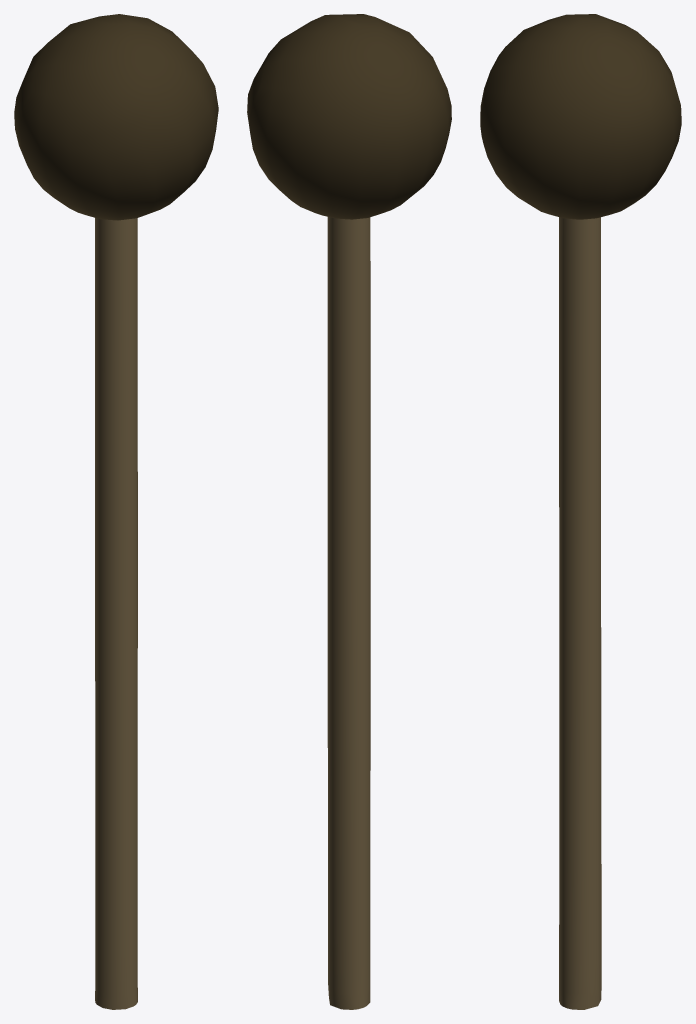
The model's file is Xylophone_Mallet.fbx.
3 renders of one model, left to right at view 1: azimuth 30°, elevation 25°; view 2: azimuth 150°, elevation 25°; view 3: azimuth 270°, elevation 25°, orthographic.
Parts seen in each view (by area): view 1: Mallet; view 2: Mallet; view 3: Mallet.
Boxes of the visible parts, <box> form: Mallet: <box>14,14,218,1009</box>; Mallet: <box>247,14,451,1009</box>; Mallet: <box>480,14,681,1009</box>.
Bounding box in the file's own units: 15.12 × 79.73 × 14.89.
